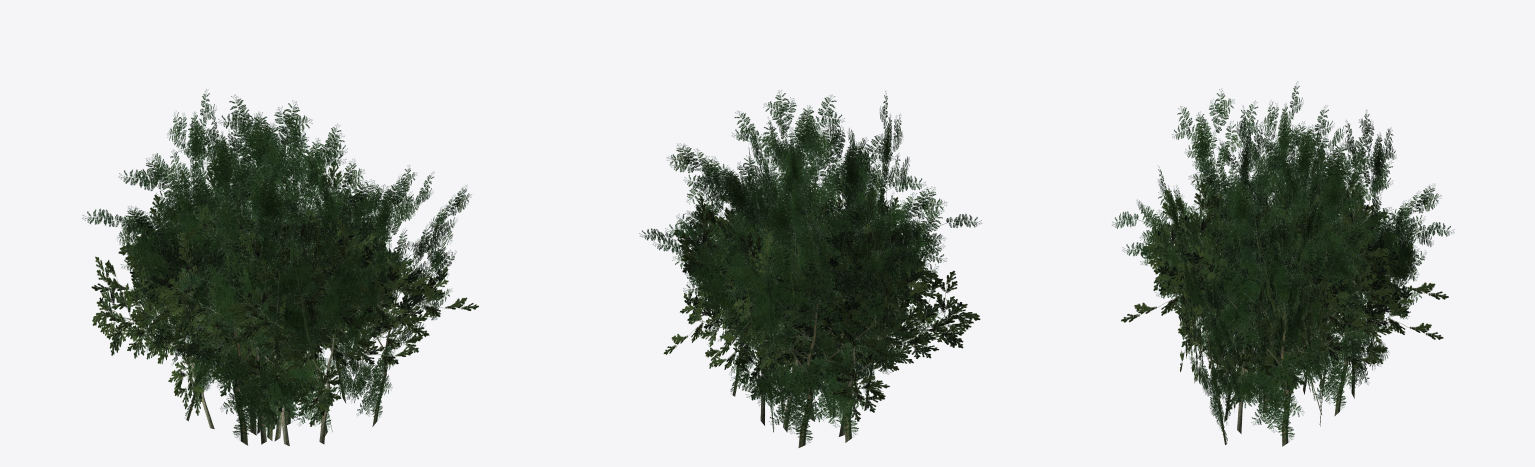
3 views of the same model, side by side, from view 1: azimuth 30°, elevation 25°; view 2: azimuth 150°, elevation 25°; view 3: azimuth 270°, elevation 25° (orthographic). The views are drawn at different scales.
Visible parts, largest first — view 1: ST_TallBush; view 2: ST_TallBush; view 3: ST_TallBush.
Boxes of the visible parts, x1=… form: ST_TallBush: x1=82, y1=89, x2=478, y2=446; ST_TallBush: x1=639, y1=90, x2=981, y2=447; ST_TallBush: x1=1112, y1=81, x2=1454, y2=446.
Size of the model in its own units: 15.93 by 10.83 by 13.68.
Materials: 2 (2 with a texture image).
